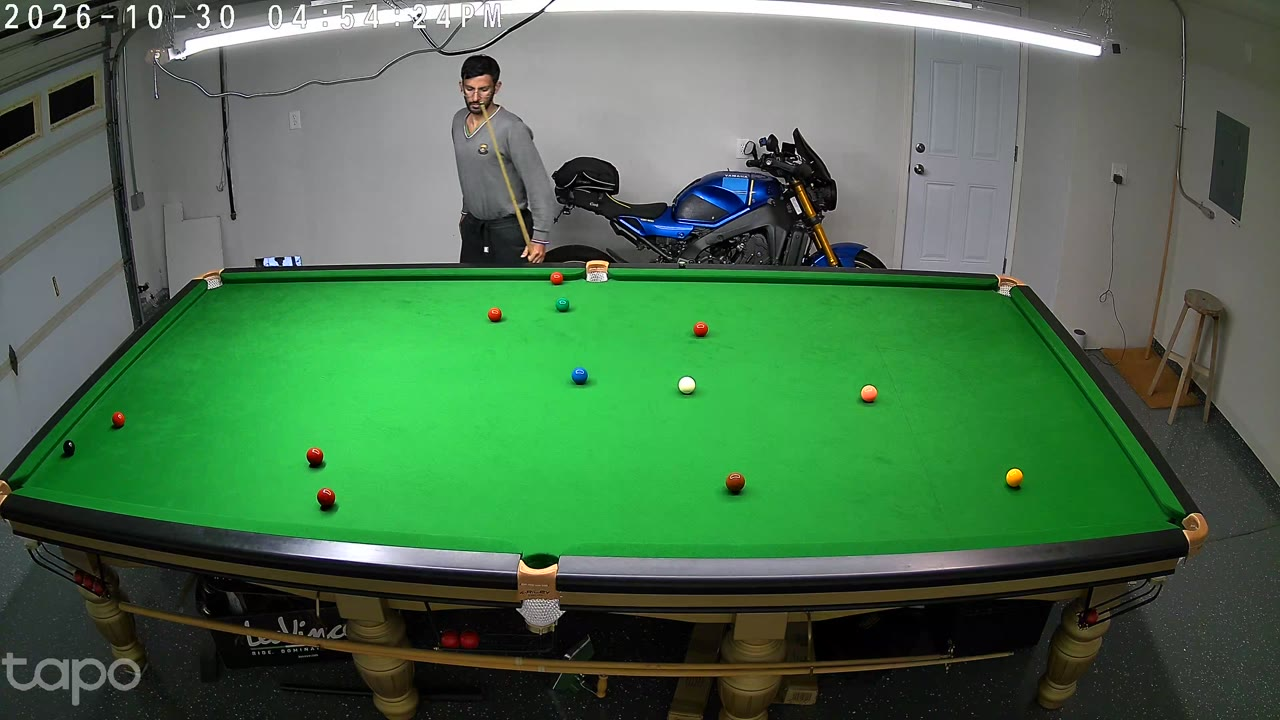black: (62, 438, 75, 459)
blue: (572, 365, 588, 388)
brown: (726, 471, 745, 496)
green: (556, 296, 569, 315)
pink: (860, 384, 876, 404)
red: (317, 486, 336, 513), (307, 445, 323, 469), (694, 320, 708, 340), (112, 410, 125, 430), (488, 306, 501, 325), (551, 271, 563, 288)
white: (678, 375, 695, 397)
yellow: (1006, 467, 1023, 489)
